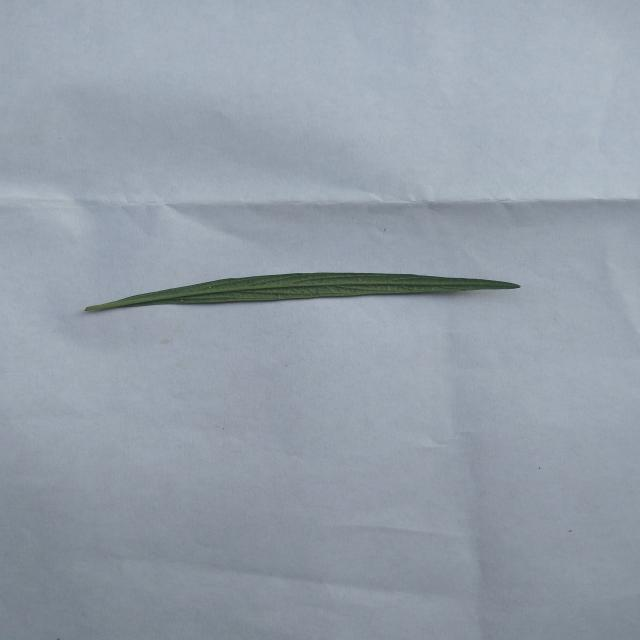thambe: (84, 272, 520, 311)
